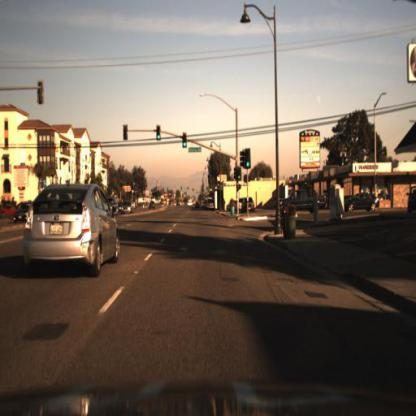car: (15, 180, 121, 283), (274, 187, 327, 216), (339, 188, 385, 214), (117, 198, 138, 218), (239, 196, 258, 217), (120, 197, 136, 216), (242, 195, 256, 216), (204, 198, 217, 214), (149, 197, 161, 214)
pedestrian: (224, 200, 226, 213)
trafficLight-Green: (244, 148, 253, 172), (155, 122, 163, 145), (182, 132, 190, 150), (236, 165, 244, 181), (245, 155, 253, 171), (157, 133, 163, 145), (183, 139, 189, 151), (236, 173, 242, 185)
trafficLight-RedLeft: (120, 122, 130, 147)
